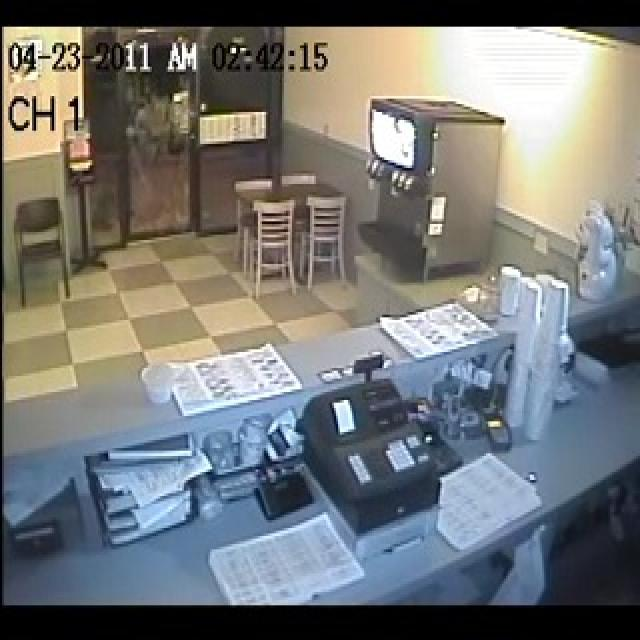burglary: (117, 64, 210, 235)
